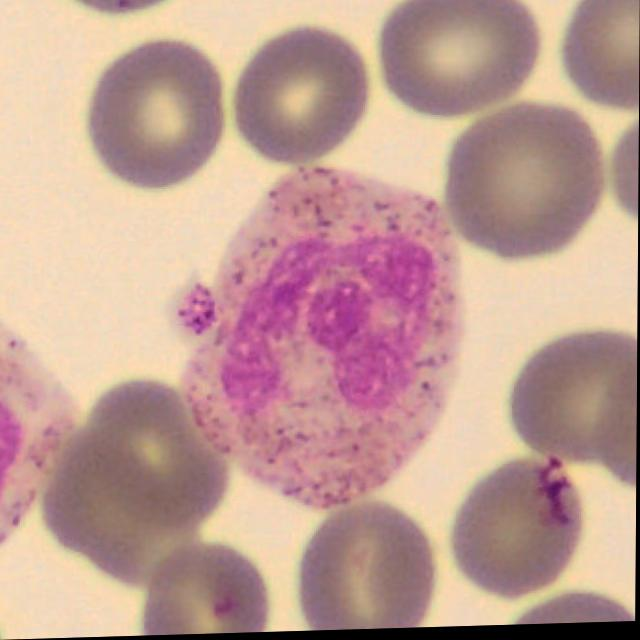Neutrofilo segmentado: (180, 168, 467, 511)
